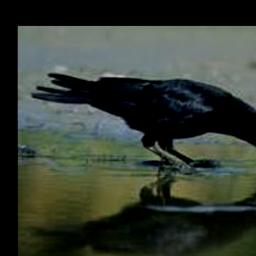Crow: (30, 71, 256, 168)
